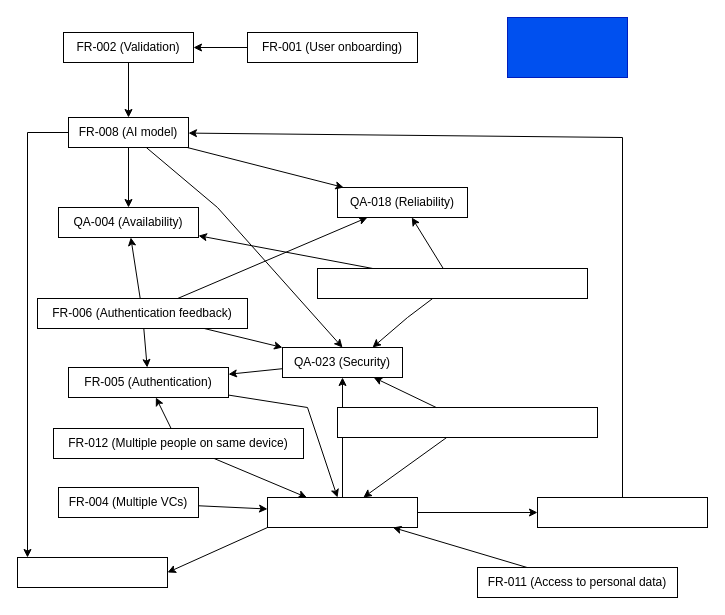
The diagram is 725 pixels wide and 615 high, and some of its shapes have lost their labels. Here are the shapes that lost their labels. From the top down, the centre of each, then its label:
At (x=567, y=47): "Legend: REQ -> REQ A depends on B".
At (x=452, y=283): "FR-010 (Authentication across required PAs)".
At (x=467, y=422): "FR-013 (Multiple devices by same person)".
At (x=342, y=512): "FR-003 (Storing the VC)".
At (x=622, y=512): "FR-009 (Storing public key)".
At (x=92, y=572): "QA-024 (Cyber Security)".
